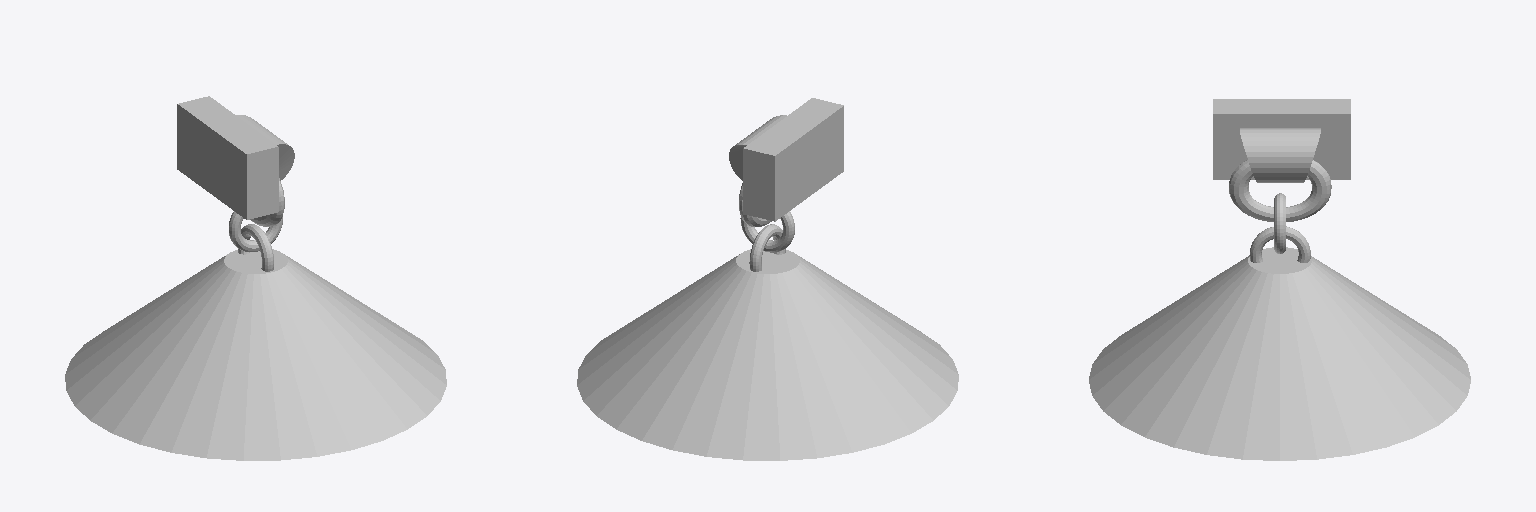
File: Linterna_02 1.obj
3 renders of one model, left to right at view 1: azimuth 30°, elevation 25°; view 2: azimuth 150°, elevation 25°; view 3: azimuth 270°, elevation 25°, orthographic.
Parts seen in each view (by area): view 1: Torus.006; view 2: Torus.006; view 3: Torus.006.
Part boxes in pixels (x1,y1,x2,y2): Torus.006: (65,96,446,460); Torus.006: (577,98,958,460); Torus.006: (1089,99,1470,460).
Size of the model in its own units: 1.24 by 0.974 by 1.24.